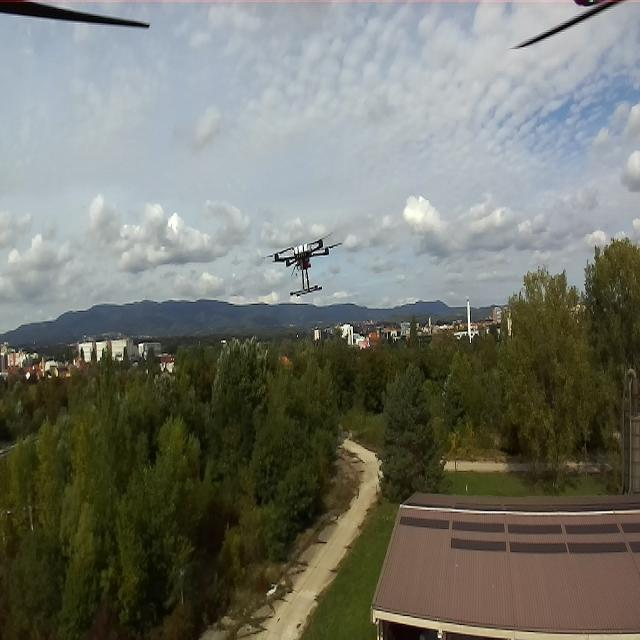UAV: (261, 229, 342, 300)
